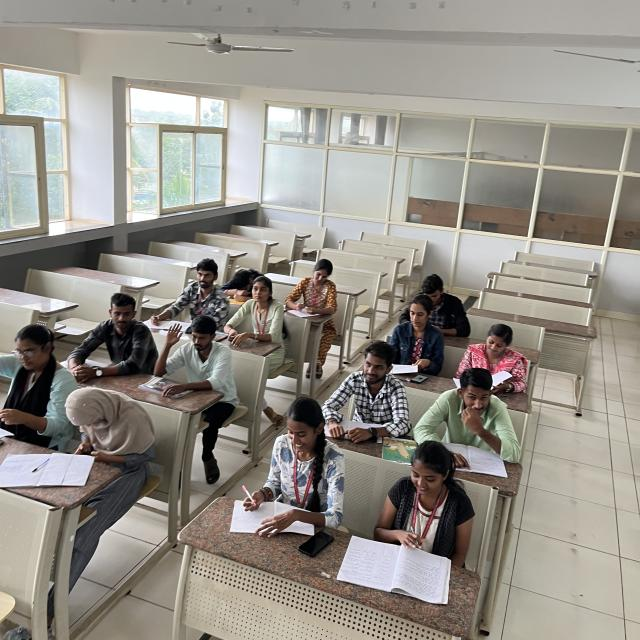Hand Rising: (147, 302, 236, 409)
Reading: (371, 440, 465, 579), (458, 322, 530, 395), (379, 296, 444, 374)
Sleeping: (218, 254, 270, 305)
Using Phone: (63, 380, 172, 468)
Writing: (234, 392, 339, 531)
